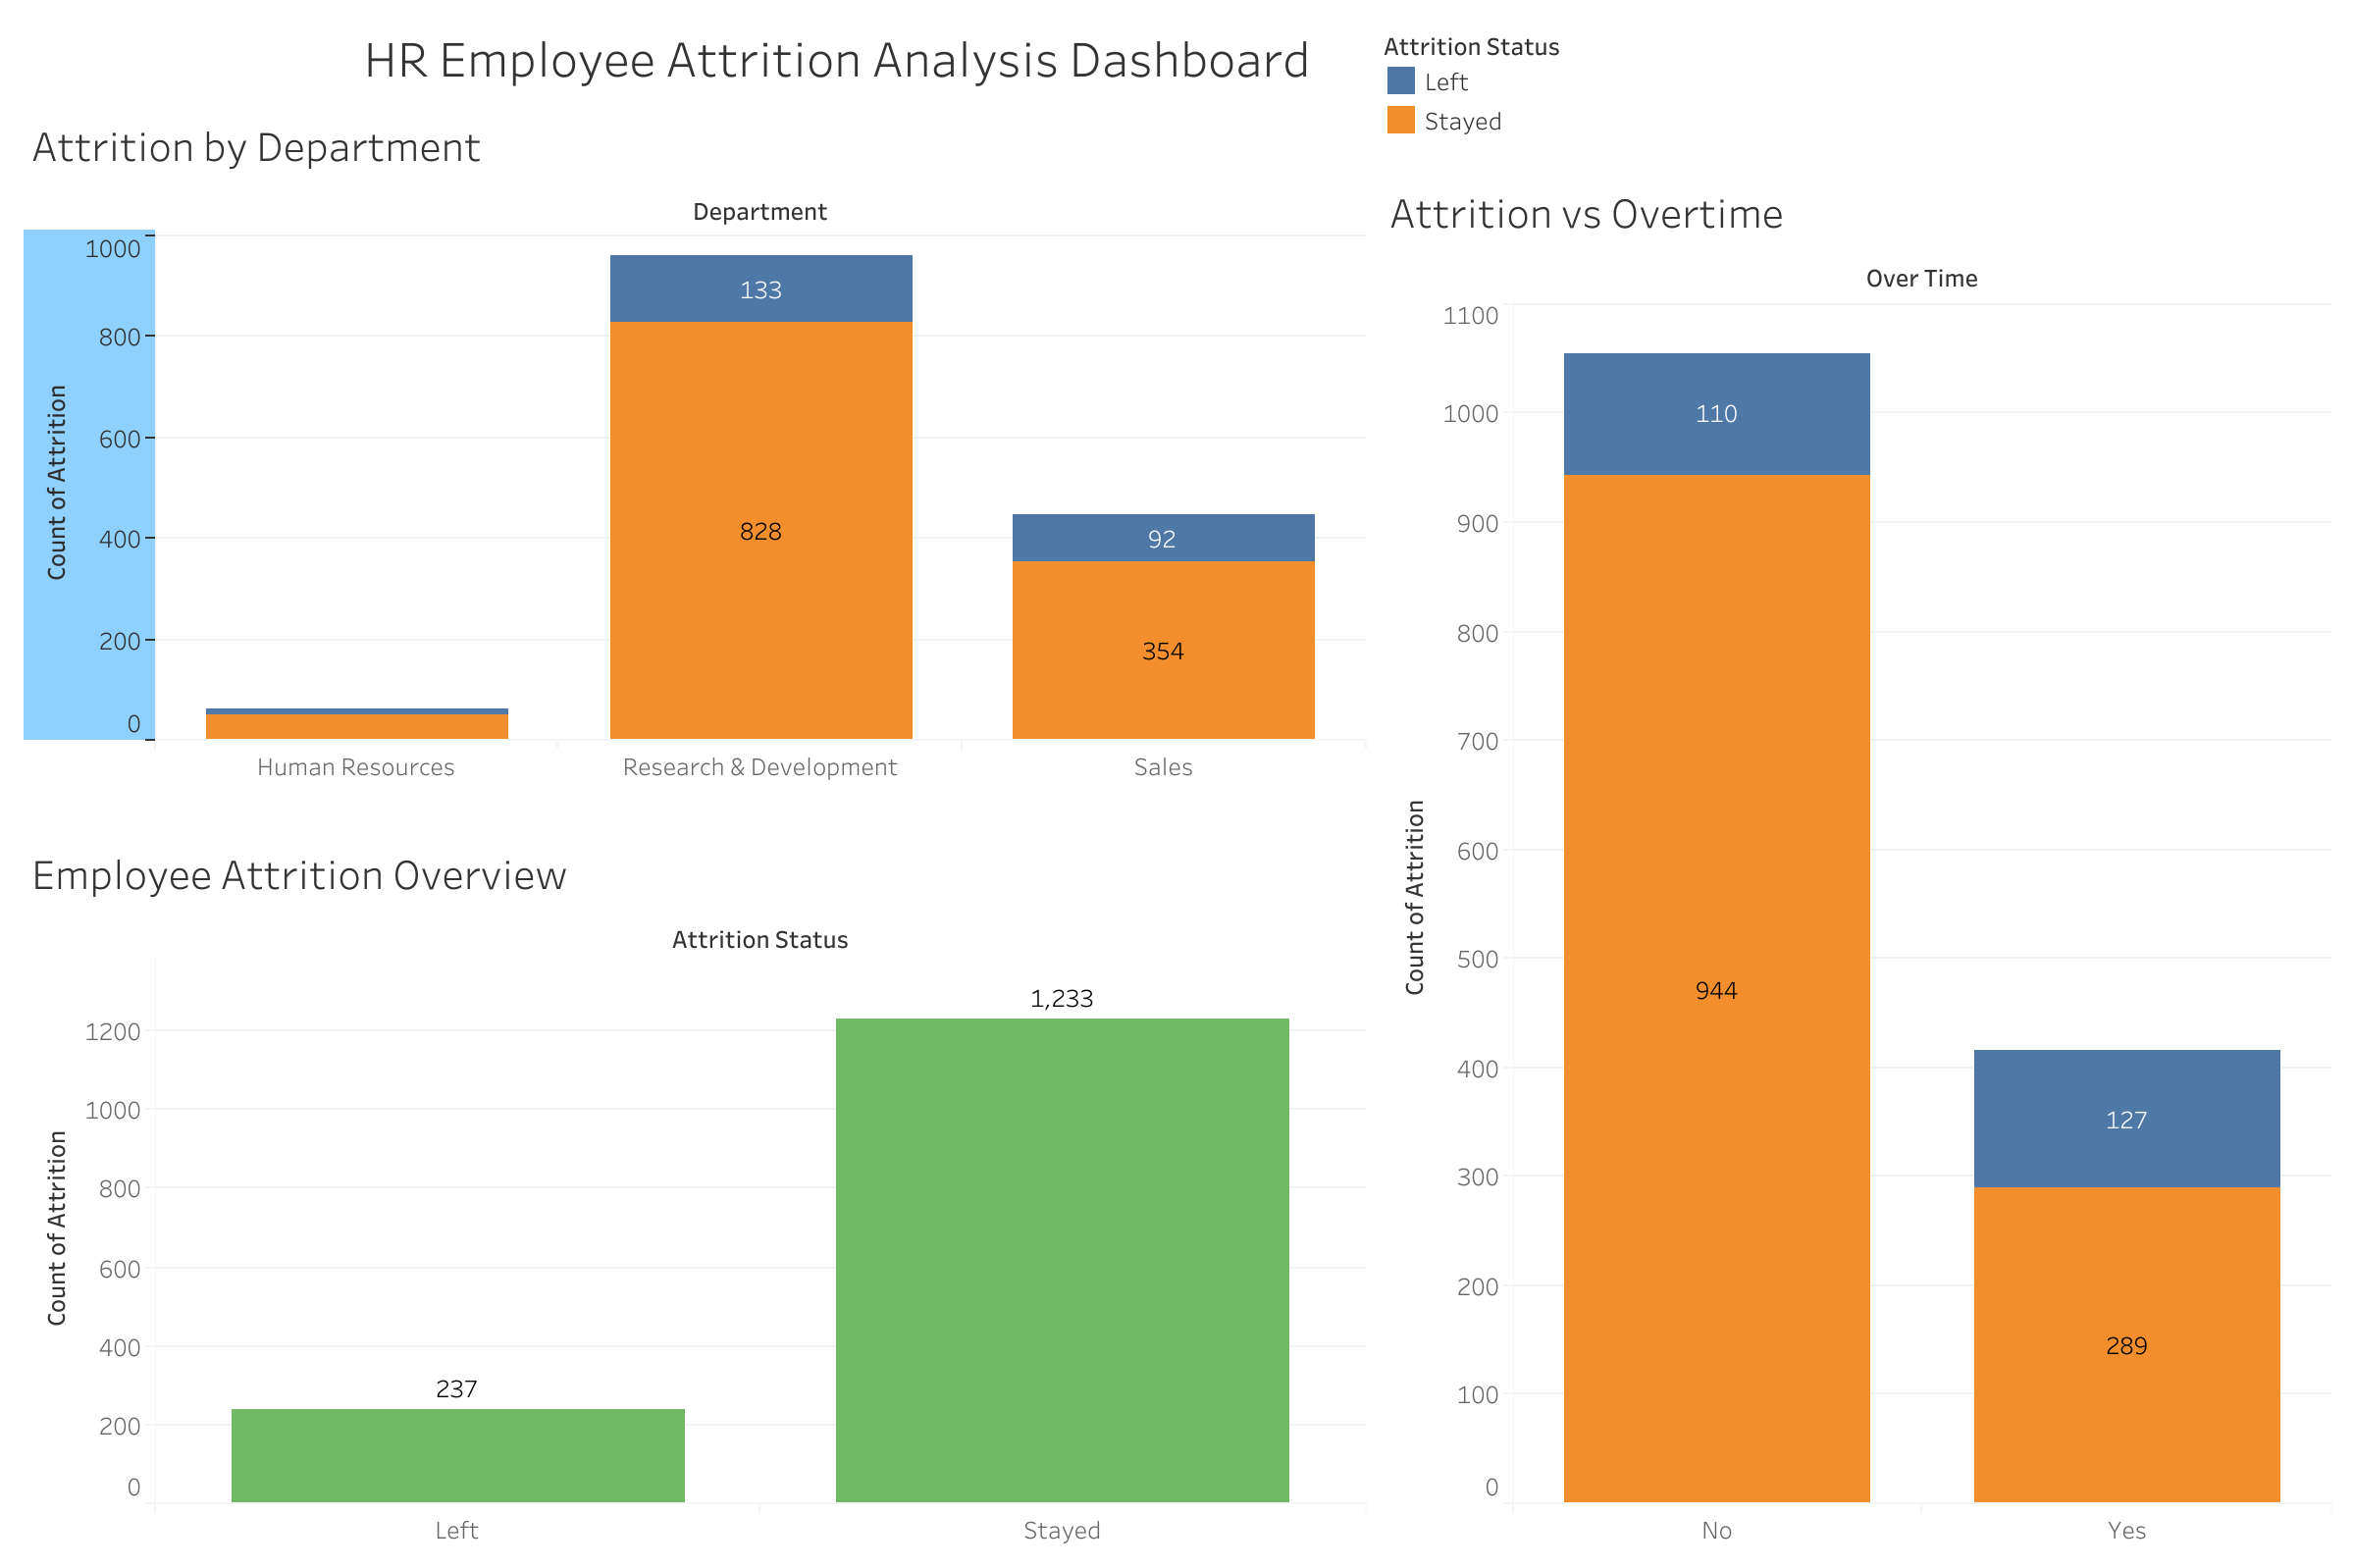

The page's visual inventory and layout, read from the dashboard file:
{"tool":"tableau","page":{"name":"HR Employee Attrition Analysis Dashboard","canvas":[1200,800],"ordinal":0},"visuals":[{"type":"title","box":[8,8,692,42]},{"type":"legend","title":"Attrition by Department","param":"[federated.0j9iwar1bcvs8u1bahzv21qnx7oe].[none:Calculation_0231489051275264:nk]","box":[700,8,492,76]},{"type":"worksheet","title":"Attrition by Department","mark":"Bar","rows":["Attrition"],"cols":["Department"],"box":[8,50,692,371]},{"type":"worksheet","title":"Attrition vs Overtime","mark":"Automatic","rows":["Attrition"],"cols":["OverTime"],"box":[700,84,492,708]},{"type":"worksheet","title":"Employee Attrition Overview","mark":"Bar","rows":["Attrition"],"cols":["Calculation_0231489051275264"],"box":[8,421,692,371]}]}

Visuals, with their boxes in screenshot pixels (x1, y1, x2, y2), scaled from the page's 1200x800 canvas onto the 2353x1568 screenshot:
title: 16, 16, 1373, 98
"Attrition by Department" legend: 1373, 16, 2337, 165
"Attrition by Department" worksheet (Bar marks): 16, 98, 1373, 825
"Attrition vs Overtime" worksheet: 1373, 165, 2337, 1552
"Employee Attrition Overview" worksheet (Bar marks): 16, 825, 1373, 1552
